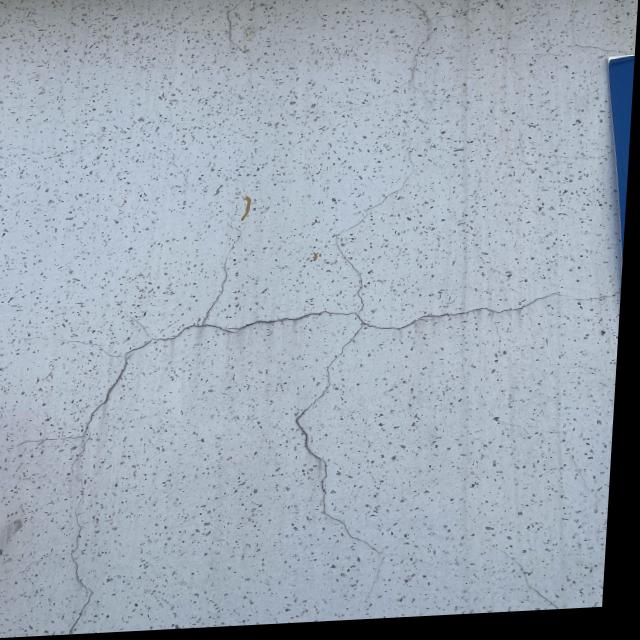crack: (41, 281, 598, 633)
